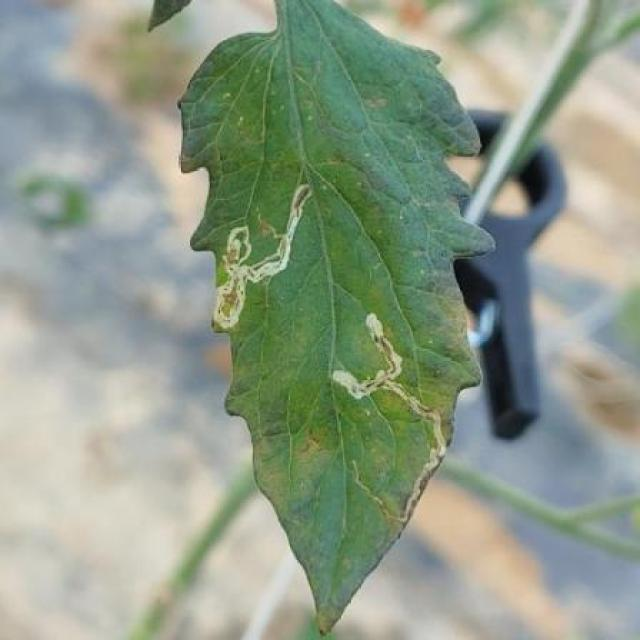Leaf Miner: (178, 0, 500, 639)
